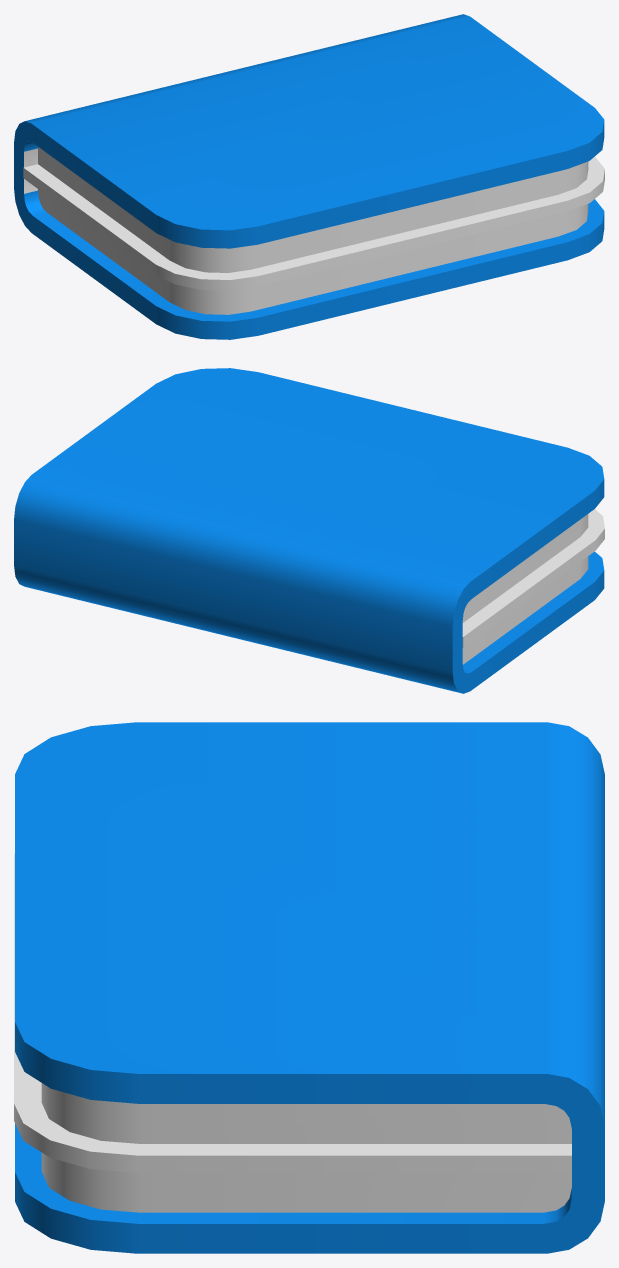
The model's file is Book01.fbx.
3 views of the same model, one above another, from view 1: azimuth 30°, elevation 25°; view 2: azimuth 150°, elevation 25°; view 3: azimuth 270°, elevation 25° (orthographic). The views are drawn at different scales.
Parts seen in each view (by area): view 1: Book1; view 2: Book1; view 3: Book1.
Part boxes in pixels (left/top/right/bottom): Book1: left=14, top=14, right=604, bottom=339; Book1: left=14, top=368, right=604, bottom=693; Book1: left=14, top=722, right=604, bottom=1253.
Size of the model in its own units: 299 by 71 by 211.
